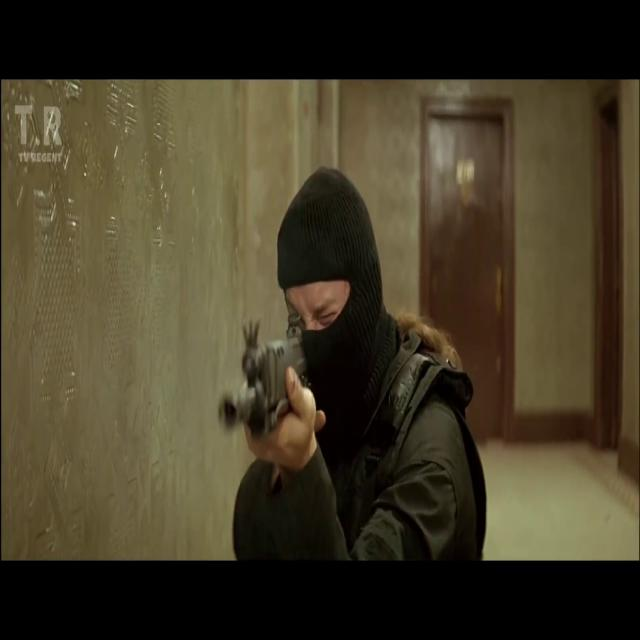long weapon: (206, 278, 345, 500)
